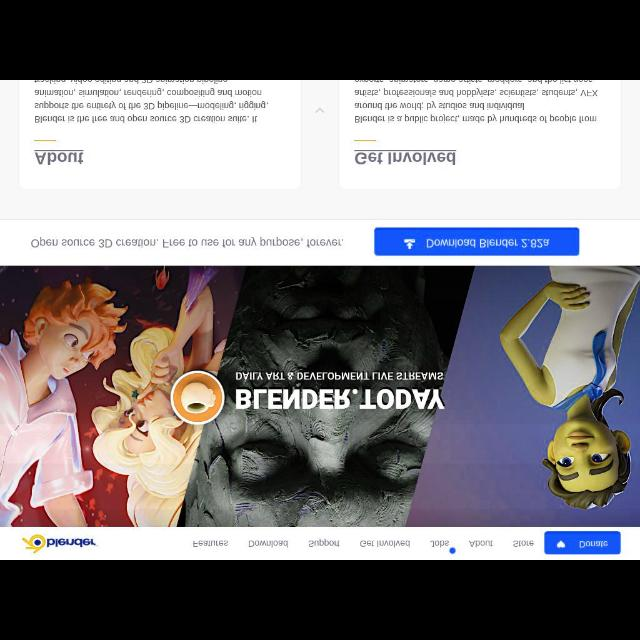backgroundimage: (1, 266, 640, 526)
icon: (405, 240, 415, 248), (315, 108, 325, 114), (558, 541, 566, 547)
image: (22, 535, 46, 553)
multitab: (192, 540, 534, 548)
text: (356, 81, 600, 123), (35, 81, 268, 123), (236, 388, 444, 408), (31, 238, 342, 248), (238, 372, 442, 380), (427, 238, 549, 248), (356, 154, 454, 166), (35, 152, 85, 164), (46, 537, 96, 547), (360, 541, 410, 547), (194, 540, 228, 548), (250, 541, 288, 547), (469, 540, 493, 548), (308, 541, 339, 547), (580, 541, 608, 547), (514, 540, 534, 546), (430, 541, 448, 547)
textbutton: (375, 228, 579, 256), (546, 530, 620, 554)
